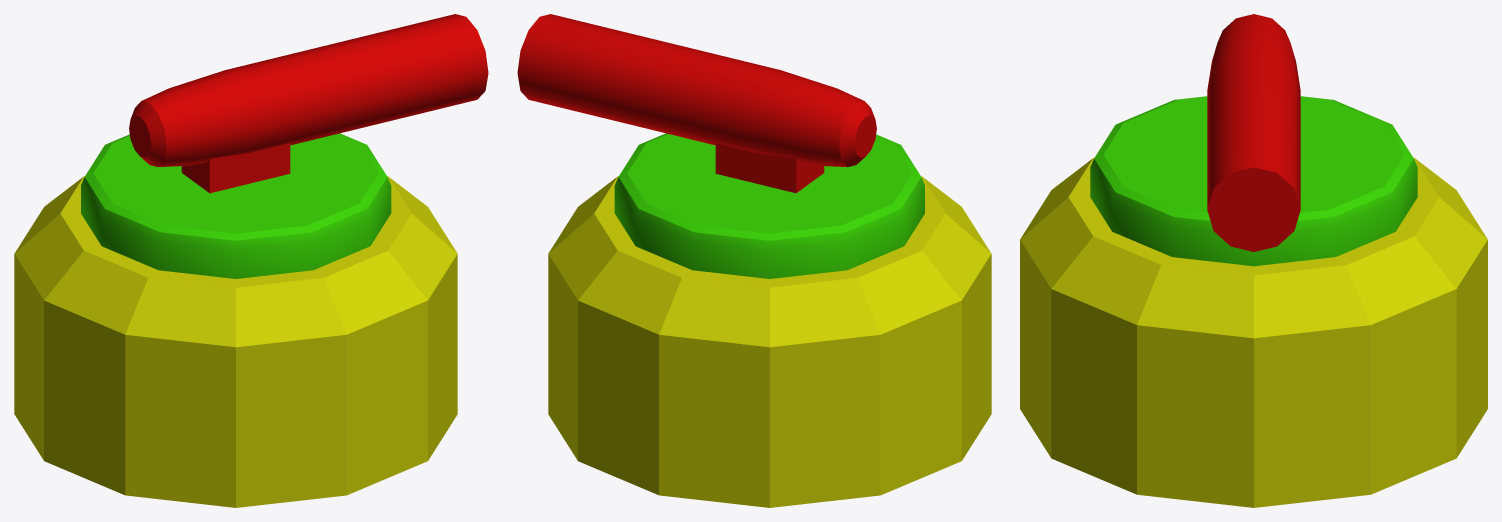
The model's file is Torreta.fbx.
3 views of the same model, side by side, from view 1: azimuth 30°, elevation 25°; view 2: azimuth 150°, elevation 25°; view 3: azimuth 270°, elevation 25° (orthographic). The views are drawn at different scales.
Visible parts, largest first — view 1: Cylinder, Cylinder.002; view 2: Cylinder, Cylinder.002; view 3: Cylinder, Cylinder.002.
Boxes of the visible parts, x1,y1,x2,y2 form: Cylinder: (14,176,457,507); Cylinder.002: (81,14,488,278); Cylinder: (548,176,991,507); Cylinder.002: (517,14,924,278); Cylinder: (1020,157,1487,507); Cylinder.002: (1090,14,1417,266).
Size of the model in its own units: 220 by 170 by 200.
